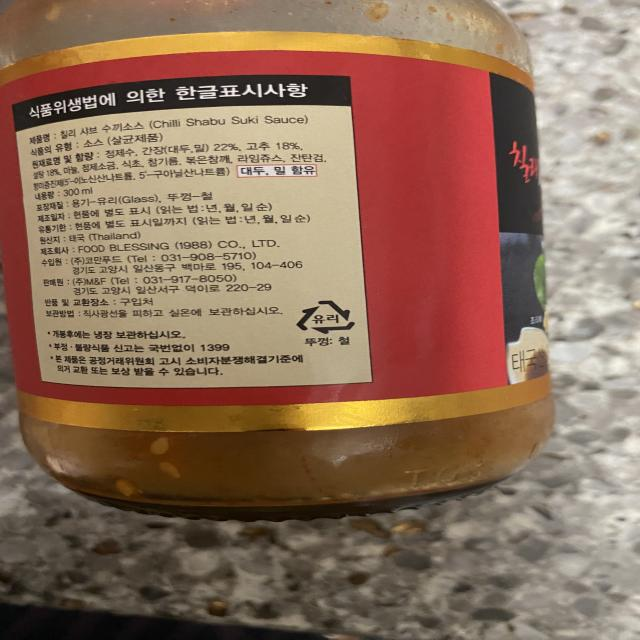Glass: (292, 297, 360, 336)
